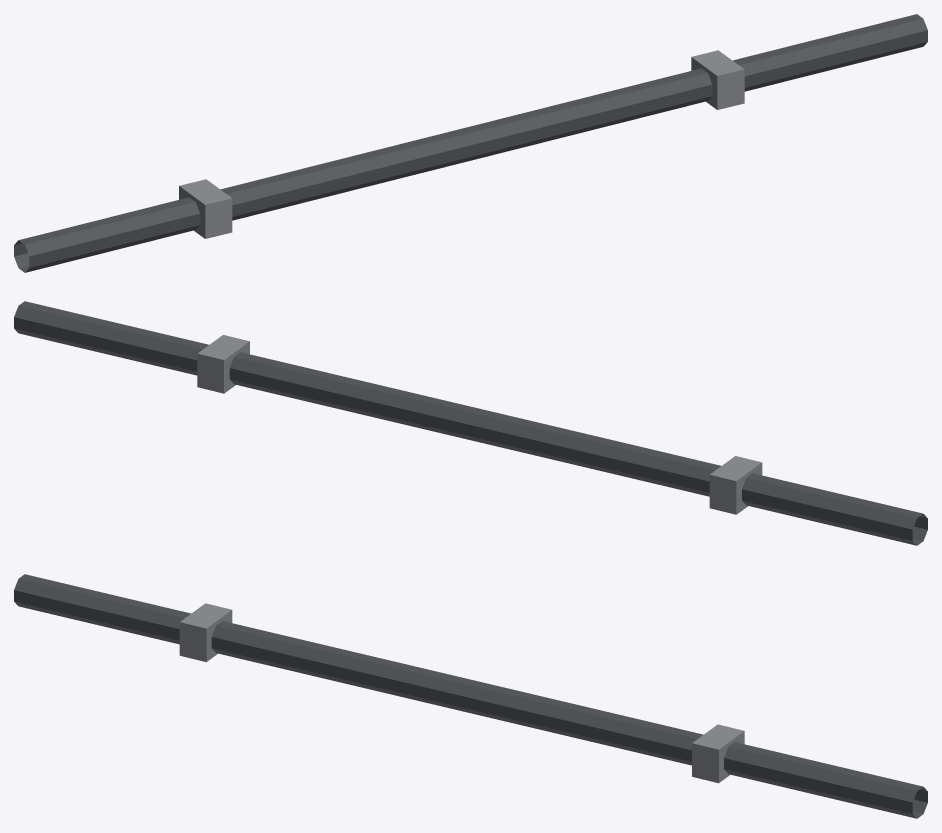
The model's file is signs_one-off_lights_01_13.obj.
The picture shows the model from 3 angles, top to bottom: view 1: azimuth 30°, elevation 25°; view 2: azimuth 150°, elevation 25°; view 3: azimuth 330°, elevation 25°; orthographic projection.
Bounding box in the file's own units: 1 × 0.036 × 0.0578.
1 material, 1 textured.
